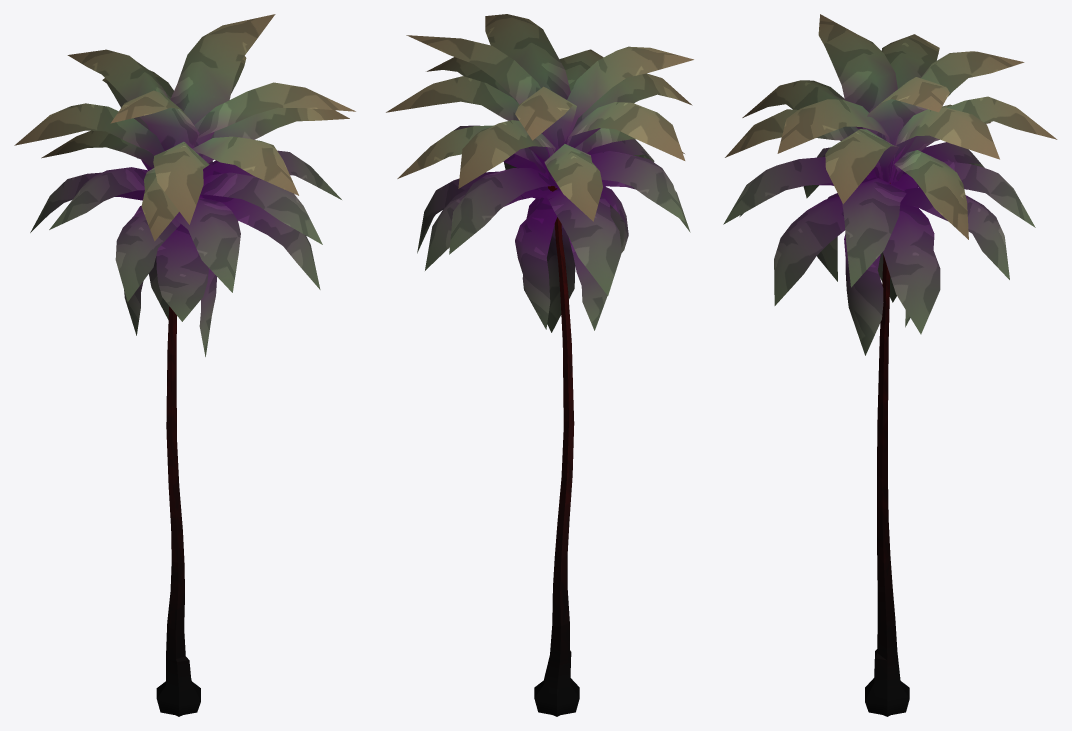
Rendered from SM_Env_Tree_Palm_03.glb.
3 renders of one model, left to right at view 1: azimuth 30°, elevation 25°; view 2: azimuth 150°, elevation 25°; view 3: azimuth 270°, elevation 25°, orthographic. The views are drawn at different scales.
Parts seen in each view (by area): view 1: SM_Env_Tree_Palm_03_LOD0; view 2: SM_Env_Tree_Palm_03_LOD0; view 3: SM_Env_Tree_Palm_03_LOD0.
Part boxes in pixels (x1,y1,x2,y2): SM_Env_Tree_Palm_03_LOD0: (14,14,355,716); SM_Env_Tree_Palm_03_LOD0: (386,14,693,716); SM_Env_Tree_Palm_03_LOD0: (723,14,1057,716).
Size of the model in its own units: 7.99 by 17.01 by 7.73.
Materials: 1 (1 with a texture image).
